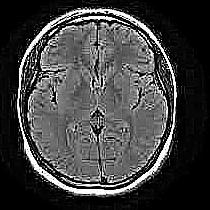Normal_Brain: (1, 1, 209, 210)
